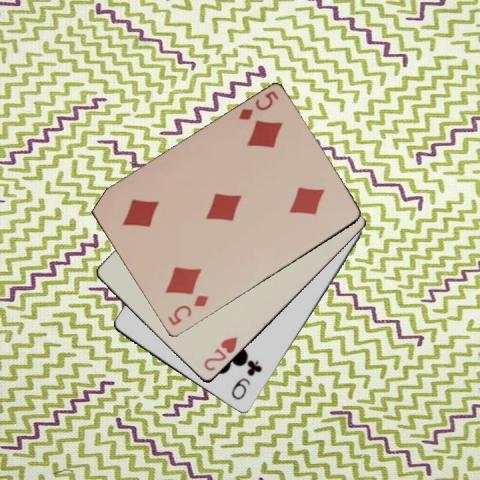2h: (201, 334, 239, 373)
5d: (165, 293, 210, 327), (235, 88, 280, 122)
9c: (229, 357, 264, 402)
